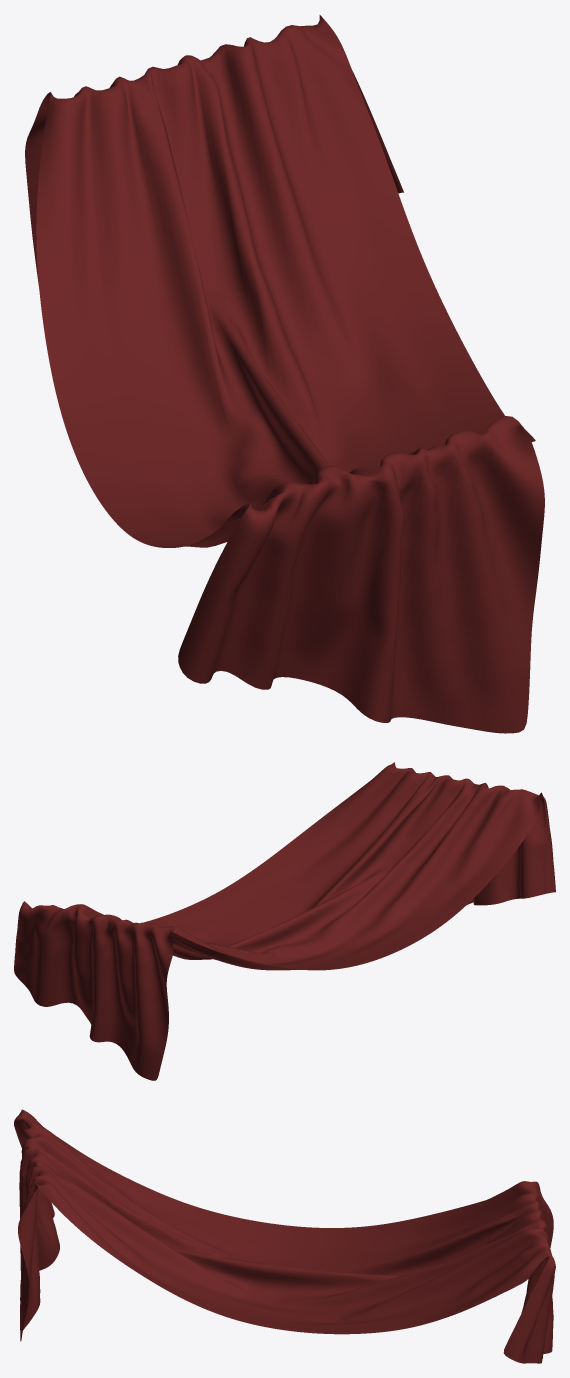
Rendered from celling_cloth.obj.
3 views of the same model, one above another, from view 1: azimuth 30°, elevation 25°; view 2: azimuth 150°, elevation 25°; view 3: azimuth 270°, elevation 25° (orthographic). The views are drawn at different scales.
Parts seen in each view (by area): view 1: celling_cloth_Plane.013; view 2: celling_cloth_Plane.013; view 3: celling_cloth_Plane.013.
Boxes of the visible parts, <box> form: celling_cloth_Plane.013: <box>25,15,544,733</box>; celling_cloth_Plane.013: <box>14,762,555,1080</box>; celling_cloth_Plane.013: <box>14,1109,555,1363</box>.
Size of the model in its own units: 2.83 by 1.24 by 3.75.
Materials: 1 (1 with a texture image).
